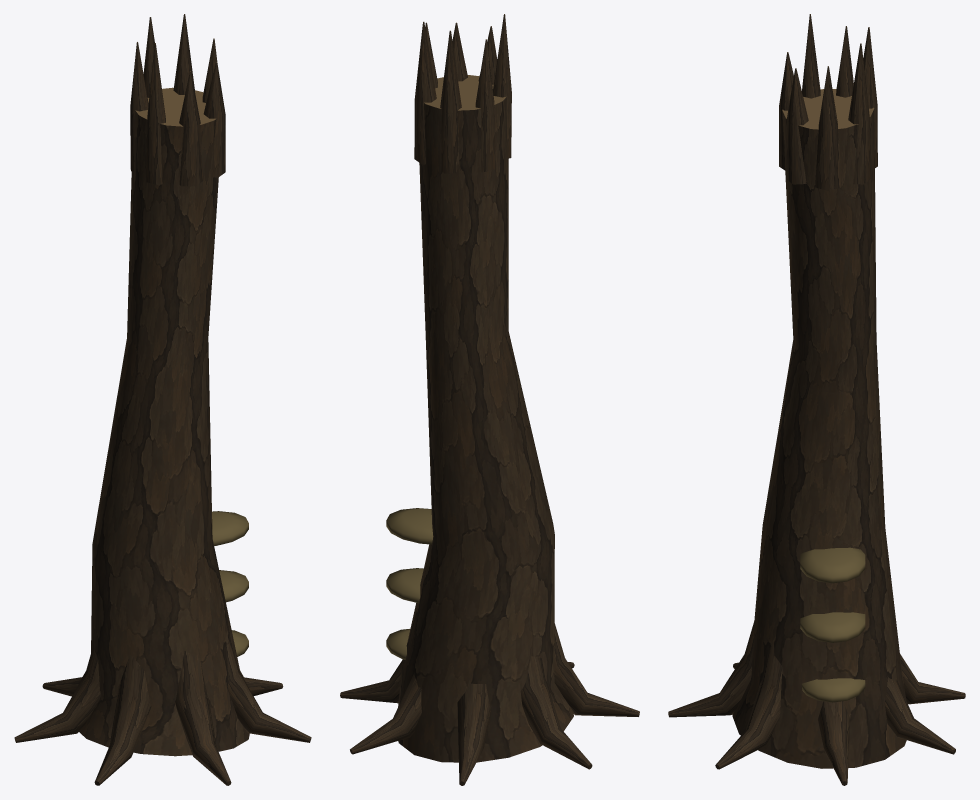
The picture shows the model from 3 angles, left to right: view 1: azimuth 30°, elevation 25°; view 2: azimuth 150°, elevation 25°; view 3: azimuth 270°, elevation 25°; orthographic projection. The views are drawn at different scales.
Visible parts, largest first — view 1: Great tapering trunk, Ground-hugging buttress root.005, Ground-hugging buttress root.004, Ground-hugging buttress root.003, Ground-hugging buttress root.006, Broken trunk splinter.005, Broken trunk splinter.004, Broken trunk splinter.006, Broken trunk splinter.003, Bracket fungus.002, Broken trunk splinter.001, Bracket fungus.001 (+1 smaller); view 2: Great tapering trunk, Ground-hugging buttress root.003, Ground-hugging buttress root.002, Ground-hugging buttress root.004, Broken trunk splinter.002, Ground-hugging buttress root.001, Broken trunk splinter.001, Broken trunk splinter.003, Bracket fungus.002, Broken trunk splinter.004, Ground-hugging buttress root, Bracket fungus.001 (+1 smaller); view 3: Great tapering trunk, Ground-hugging buttress root.006, Broken trunk splinter, Ground-hugging buttress root.005, Bracket fungus.002, Broken trunk splinter.001, Ground-hugging buttress root.001, Ground-hugging buttress root, Broken trunk splinter.006, Bracket fungus.001, Bracket fungus, Ground-hugging buttress root.002 (+4 smaller).
Boxes of the visible parts, <box> form: Great tapering trunk: <box>79,87,249,756</box>; Ground-hugging buttress root.005: <box>175,651,231,785</box>; Ground-hugging buttress root.004: <box>94,654,151,785</box>; Ground-hugging buttress root.003: <box>14,646,100,742</box>; Ground-hugging buttress root.006: <box>226,633,311,742</box>; Broken trunk splinter.005: <box>179,71,203,186</box>; Broken trunk splinter.004: <box>146,43,165,185</box>; Broken trunk splinter.006: <box>203,62,225,177</box>; Broken trunk splinter.003: <box>130,42,148,171</box>; Bracket fungus.002: <box>212,511,248,545</box>; Broken trunk splinter.001: <box>173,14,194,94</box>; Bracket fungus.001: <box>219,570,248,602</box>; Great tapering trunk: <box>398,75,573,762</box>; Ground-hugging buttress root.003: <box>520,656,592,769</box>; Ground-hugging buttress root.002: <box>457,680,490,785</box>; Ground-hugging buttress root.004: <box>554,623,639,716</box>; Broken trunk splinter.002: <box>440,30,461,173</box>; Ground-hugging buttress root.001: <box>350,673,421,754</box>; Broken trunk splinter.001: <box>414,21,436,164</box>; Broken trunk splinter.003: <box>475,39,495,172</box>; Bracket fungus.002: <box>386,508,433,544</box>; Broken trunk splinter.004: <box>493,14,511,158</box>; Ground-hugging buttress root: <box>340,659,403,703</box>; Bracket fungus.001: <box>386,568,423,603</box>; Great tapering trunk: <box>732,89,906,768</box>; Ground-hugging buttress root.006: <box>715,637,782,769</box>; Broken trunk splinter: <box>815,66,841,190</box>; Ground-hugging buttress root.005: <box>668,621,755,717</box>; Bracket fungus.002: <box>800,547,865,583</box>; Broken trunk splinter.001: <box>848,43,870,184</box>; Ground-hugging buttress root.001: <box>884,676,955,754</box>; Ground-hugging buttress root: <box>818,701,849,785</box>; Broken trunk splinter.006: <box>785,68,808,184</box>; Bracket fungus.001: <box>800,612,865,642</box>; Bracket fungus: <box>801,678,865,702</box>; Ground-hugging buttress root.002: <box>900,654,965,704</box>.
Bounding box in the file's own units: 13.7 × 35.89 × 13.59.
3 materials, 1 textured.
